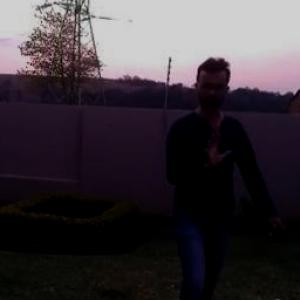follow_hand: (198, 126, 232, 170)
